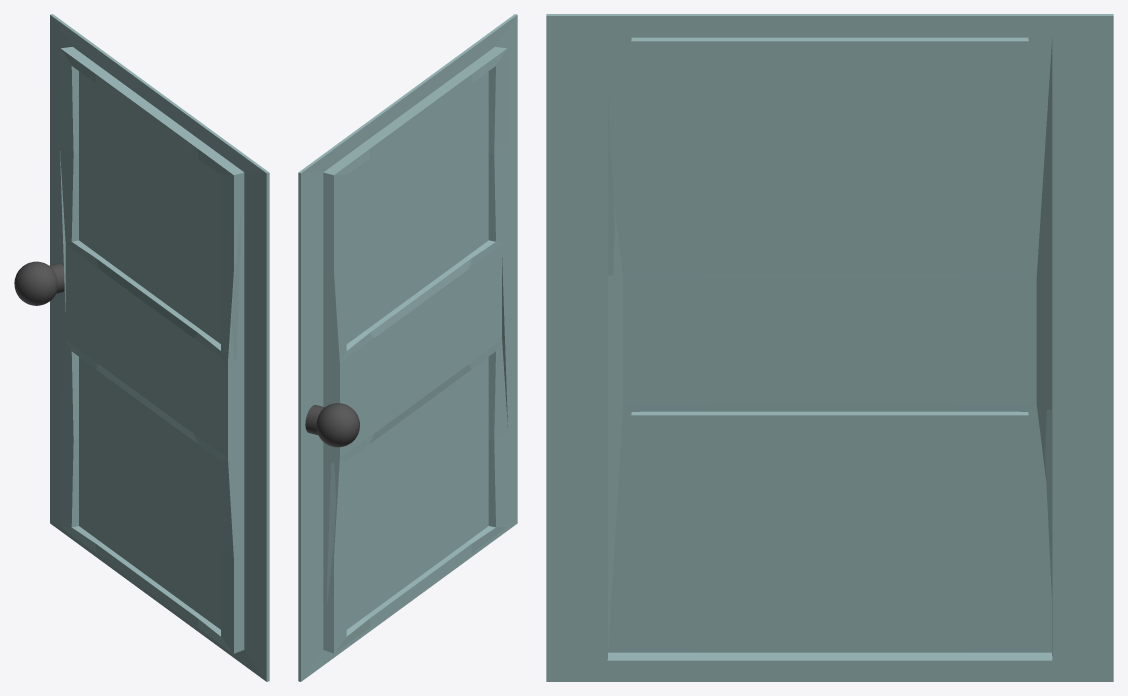
Rendered from RightDoorOfTvStand.fbx.
3 renders of one model, left to right at view 1: azimuth 30°, elevation 25°; view 2: azimuth 150°, elevation 25°; view 3: azimuth 270°, elevation 25°, orthographic. The views are drawn at different scales.
Parts seen in each view (by area): view 1: Cube.006, Cube.008; view 2: Cube.006, Cube.008; view 3: Cube.006.
Boxes of the visible parts, x1,y1,x2,y2 form: Cube.006: (50, 14, 269, 681); Cube.008: (14, 261, 64, 305); Cube.006: (298, 14, 517, 681); Cube.008: (305, 403, 359, 447); Cube.006: (546, 14, 1113, 681).
Size of the model in its own units: 4.93 by 50.67 by 39.13.
